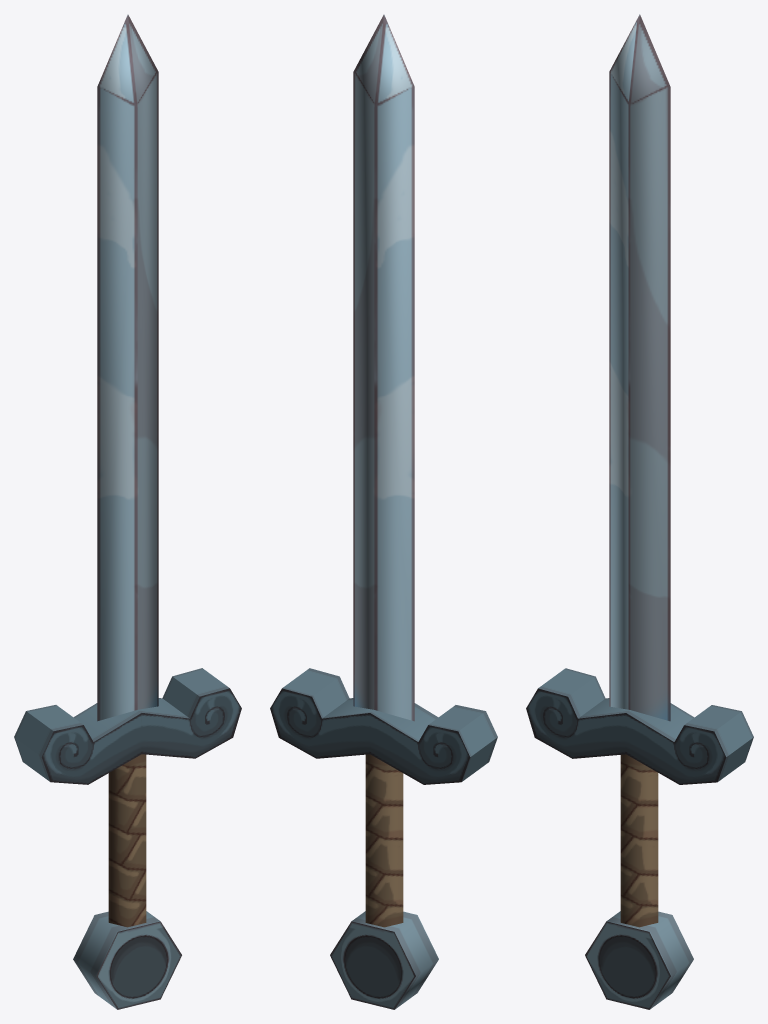
The model's file is sword.FBX.
3 renders of one model, left to right at view 1: azimuth 30°, elevation 25°; view 2: azimuth 150°, elevation 25°; view 3: azimuth 330°, elevation 25°, orthographic.
Parts seen in each view (by area): view 1: sword; view 2: sword; view 3: sword.
Boxes of the visible parts, <box> form: sword: <box>14,14,241,1009</box>; sword: <box>270,14,497,1009</box>; sword: <box>526,14,753,1009</box>.
Bounding box in the file's own units: 16.72 × 78.34 × 4.
